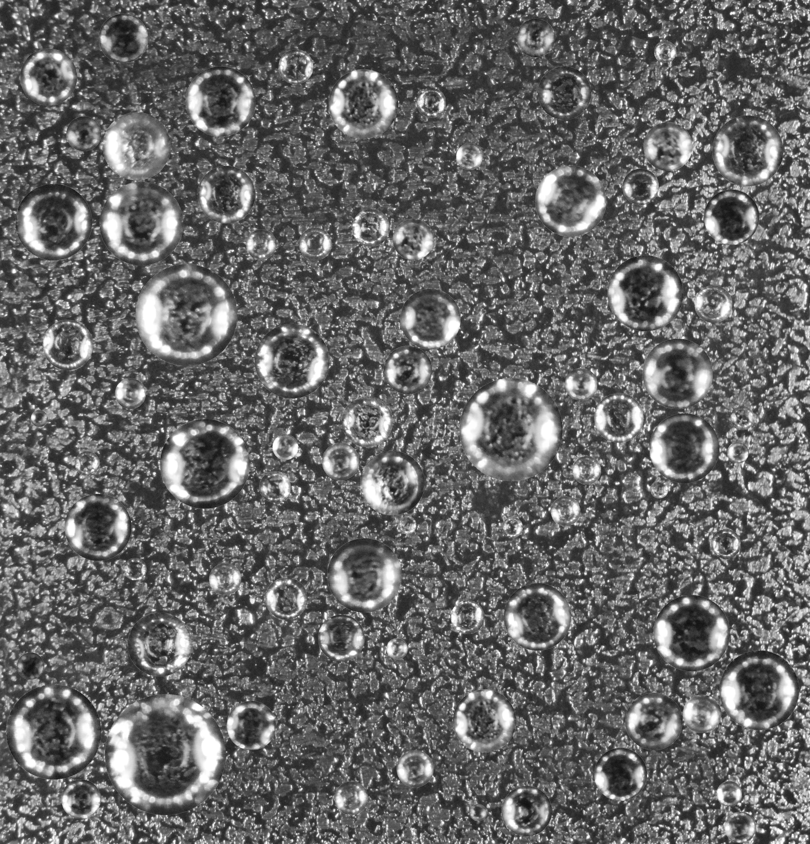Bubble: (104, 694, 225, 815), (459, 378, 562, 481), (135, 264, 237, 365), (6, 684, 101, 779), (160, 419, 249, 508), (99, 181, 183, 265), (719, 650, 799, 730), (15, 183, 91, 260), (607, 255, 683, 331), (653, 595, 729, 671), (254, 323, 329, 398), (327, 538, 401, 612), (712, 115, 783, 186), (535, 165, 606, 236), (649, 413, 719, 483), (185, 66, 255, 136), (642, 338, 712, 408), (328, 69, 398, 138), (102, 112, 170, 180), (503, 583, 571, 650), (64, 494, 131, 560), (360, 451, 424, 515), (127, 612, 191, 676), (453, 689, 516, 752), (400, 288, 460, 349), (197, 165, 255, 223), (625, 692, 682, 750), (20, 48, 76, 105), (704, 189, 759, 244), (537, 66, 591, 119), (594, 748, 647, 800), (341, 396, 392, 447), (42, 319, 92, 370), (501, 786, 551, 836), (98, 13, 147, 62), (594, 393, 643, 442), (226, 701, 275, 750), (383, 345, 432, 394), (643, 122, 692, 170), (318, 614, 364, 661), (265, 577, 307, 619), (392, 218, 433, 259), (61, 779, 100, 818), (516, 18, 555, 57), (683, 694, 721, 733), (694, 285, 732, 322), (322, 443, 359, 480), (396, 750, 433, 787), (352, 209, 389, 246), (622, 168, 658, 204), (66, 116, 101, 151), (278, 49, 313, 83), (334, 781, 368, 815), (450, 600, 484, 634), (298, 227, 331, 260), (565, 368, 597, 400), (724, 811, 756, 843), (209, 563, 241, 595), (259, 471, 290, 502), (550, 496, 580, 526), (115, 378, 145, 408), (246, 229, 276, 259), (416, 87, 445, 117), (711, 529, 740, 558), (572, 456, 601, 484), (16, 652, 43, 679), (456, 143, 482, 169), (272, 434, 298, 459), (716, 781, 742, 806), (74, 451, 99, 476), (730, 406, 754, 430), (124, 558, 146, 580), (654, 40, 676, 62), (727, 442, 748, 463), (386, 638, 407, 659), (502, 517, 522, 537), (650, 480, 668, 498), (398, 516, 416, 534), (469, 804, 486, 821), (30, 410, 47, 426)
